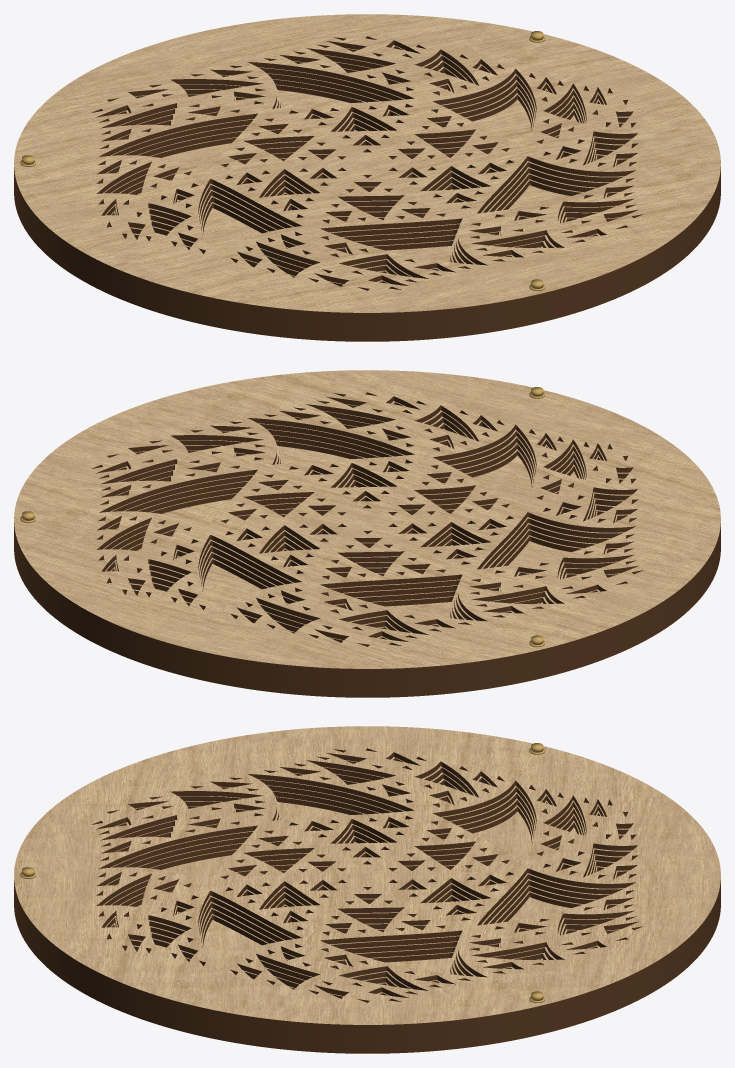
Rendered from fracture.glb.
3 views of the same model, one above another, from view 1: azimuth 30°, elevation 25°; view 2: azimuth 150°, elevation 25°; view 3: azimuth 270°, elevation 25° (orthographic).
Parts seen in each view (by area): view 1: body0, body1, body2, body5, body3, body4; view 2: body0, body1, body2, body5, body3, body4; view 3: body0, body1, body2, body5, body3, body4.
Part boxes in pixels (x1=…): body0: x1=14, y1=14, x2=720, y2=317; body1: x1=14, y1=45, x2=720, y2=322; body2: x1=14, y1=60, x2=720, y2=327; body5: x1=14, y1=90, x2=720, y2=341; body3: x1=14, y1=66, x2=720, y2=332; body4: x1=14, y1=73, x2=720, y2=336; body0: x1=14, y1=370, x2=720, y2=673; body1: x1=14, y1=401, x2=720, y2=678; body2: x1=14, y1=416, x2=720, y2=683; body5: x1=14, y1=446, x2=720, y2=697; body3: x1=14, y1=422, x2=720, y2=688; body4: x1=14, y1=429, x2=720, y2=692; body0: x1=14, y1=726, x2=720, y2=1029; body1: x1=14, y1=757, x2=720, y2=1034; body2: x1=14, y1=772, x2=720, y2=1039; body5: x1=14, y1=802, x2=720, y2=1053; body3: x1=14, y1=778, x2=720, y2=1044; body4: x1=14, y1=785, x2=720, y2=1048.
Size of the model in its own units: 0.4 by 0.0216 by 0.4.
4 materials, 1 textured.
